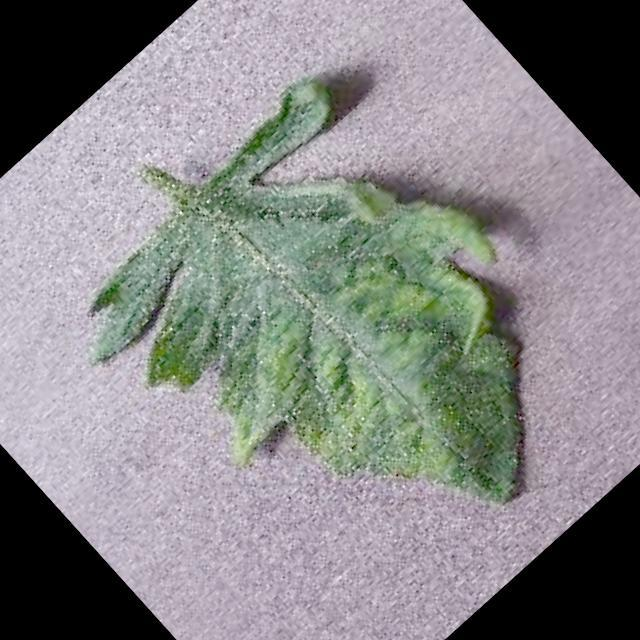Tomato mosaic virus leaf: (41, 45, 639, 640)
